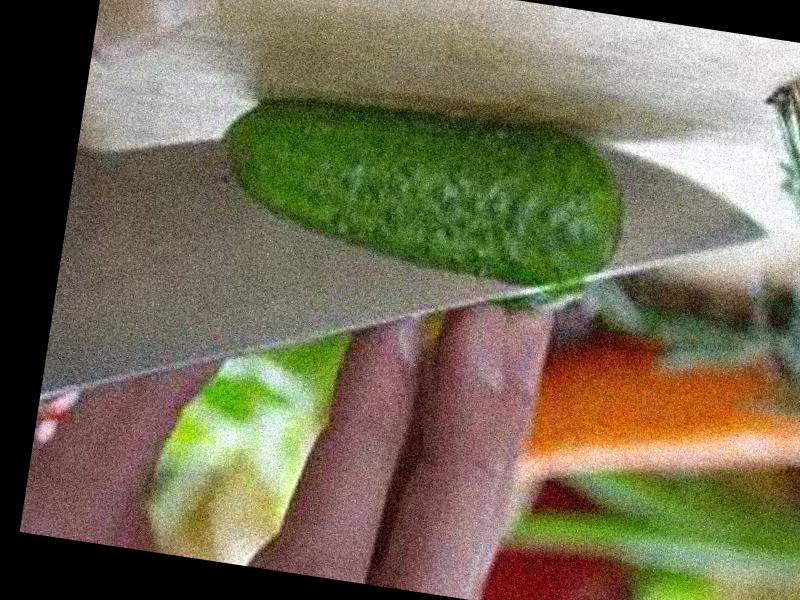Cucumber: (213, 76, 637, 299)
